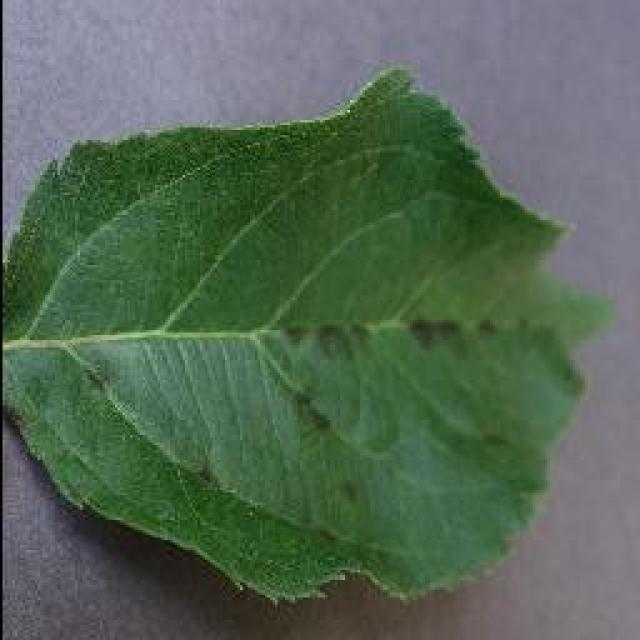apple scab disease: (0, 63, 608, 605)
